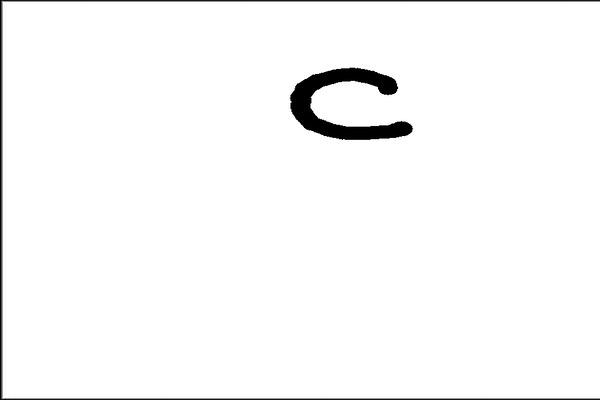C: (285, 62, 417, 145)
